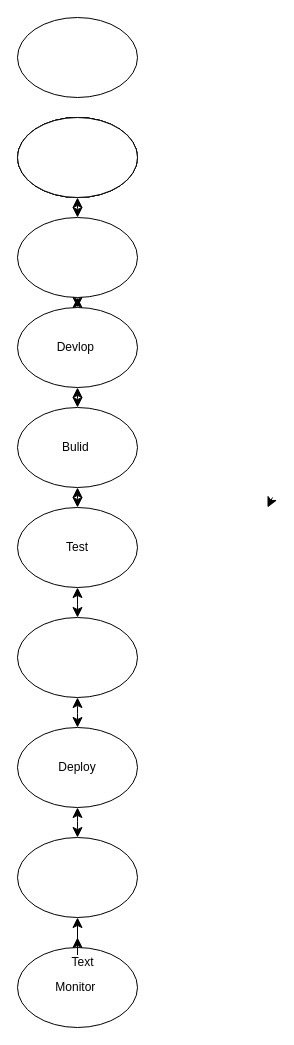
This 294x1045 diagram has some shape labels left out. Here are the shapes that lost their labels. From the top down, the centre of each, then its label:
At pixel 77 257: "Plan".
At pixel 77 657: "Release".
At pixel 77 877: "Operator".
